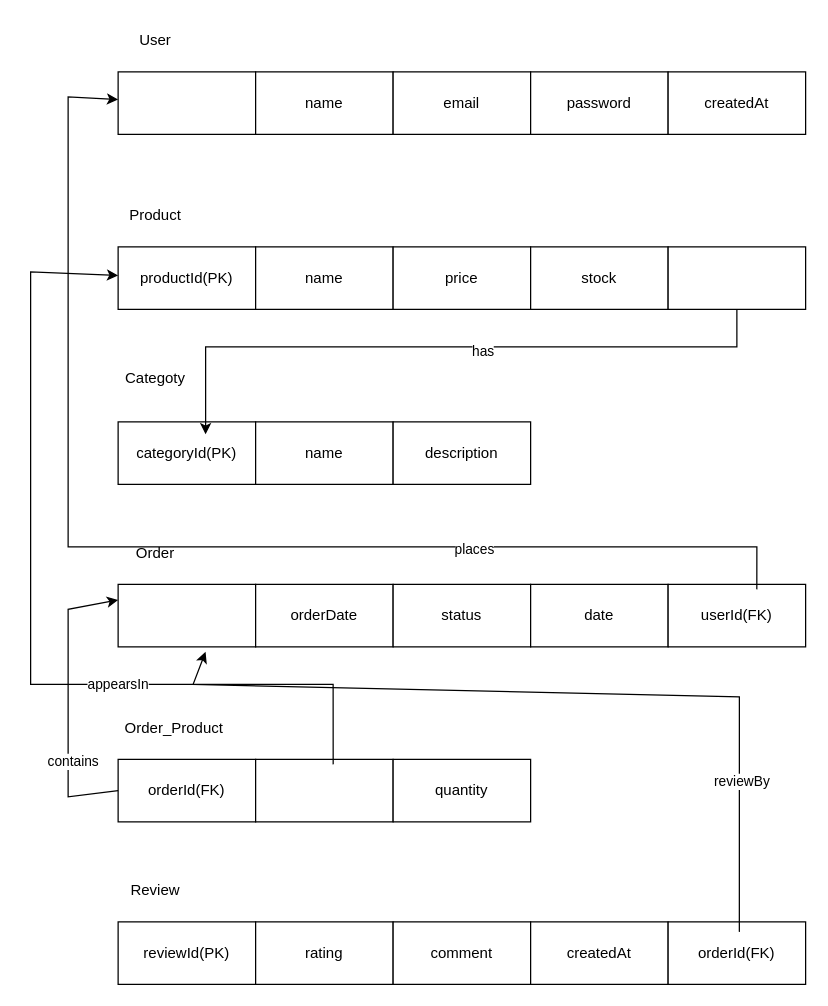
This 828x1006 diagram has some shape labels left out. Each missing label, with the box of its shape:
categoryId(FK): (667, 246, 806, 309)
orderId(PK): (117, 583, 256, 647)
productId(FK): (254, 758, 393, 822)
userId(PK): (117, 71, 256, 134)
